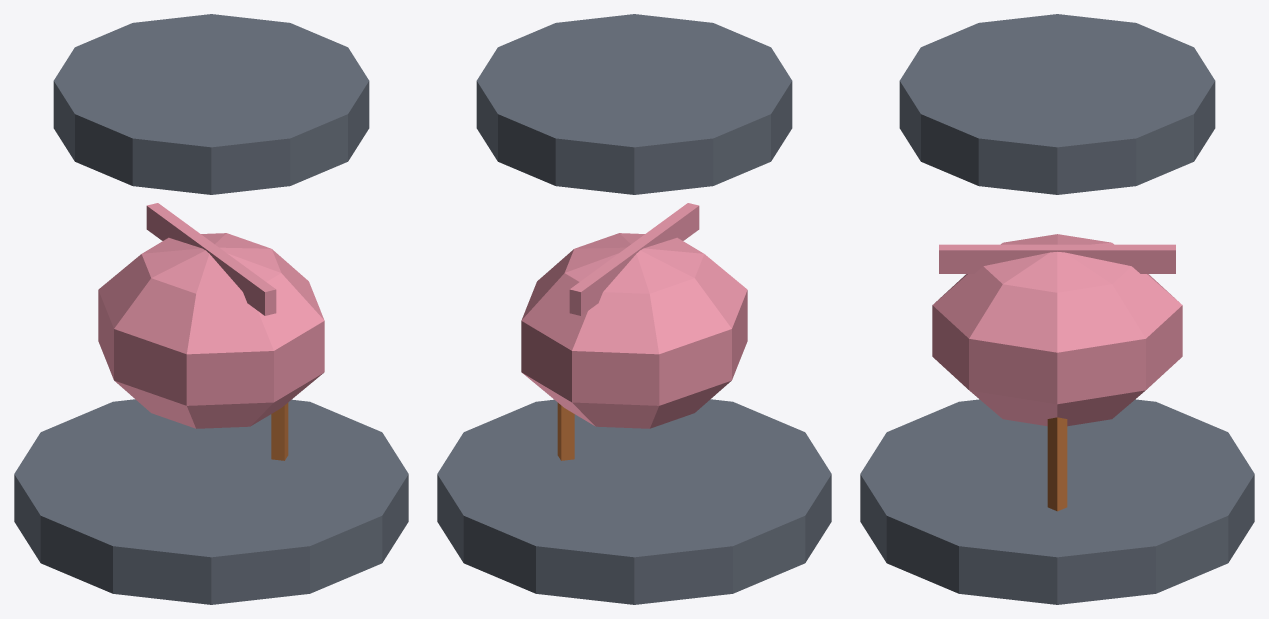
File: cosmetic_hat_brain_jar.glb
3 renders of one model, left to right at view 1: azimuth 30°, elevation 25°; view 2: azimuth 150°, elevation 25°; view 3: azimuth 270°, elevation 25°, orthographic.
Parts seen in each view (by area): view 1: cosmetic_hat_brain_jar; view 2: cosmetic_hat_brain_jar; view 3: cosmetic_hat_brain_jar.
Boxes of the visible parts, x1,y1,x2,y2 form: cosmetic_hat_brain_jar: (14, 14, 408, 604); cosmetic_hat_brain_jar: (437, 14, 831, 604); cosmetic_hat_brain_jar: (860, 14, 1254, 604).
Bounding box in the file's own units: 0.3 × 0.37 × 0.3.
Materials: 1 (1 with a texture image).
